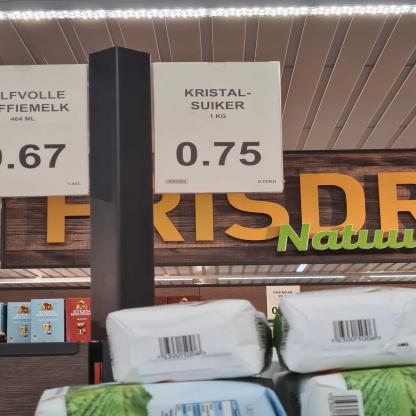prtg: (153, 62, 285, 195), (1, 64, 90, 198)
